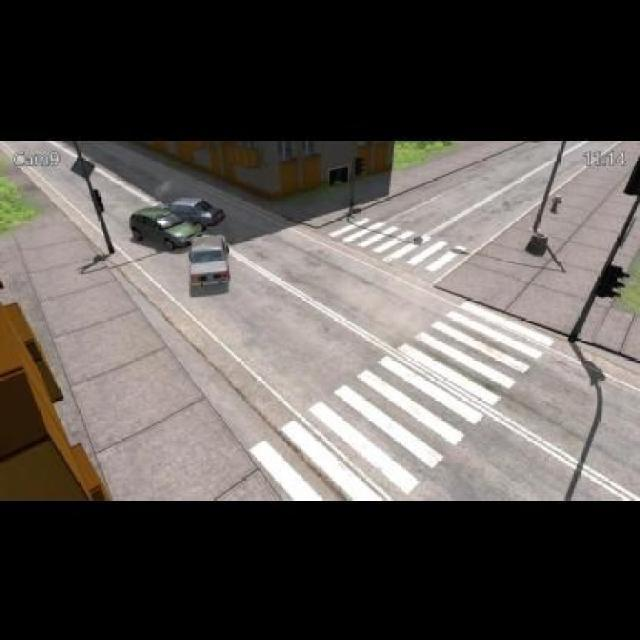accident: (164, 193, 218, 236)
